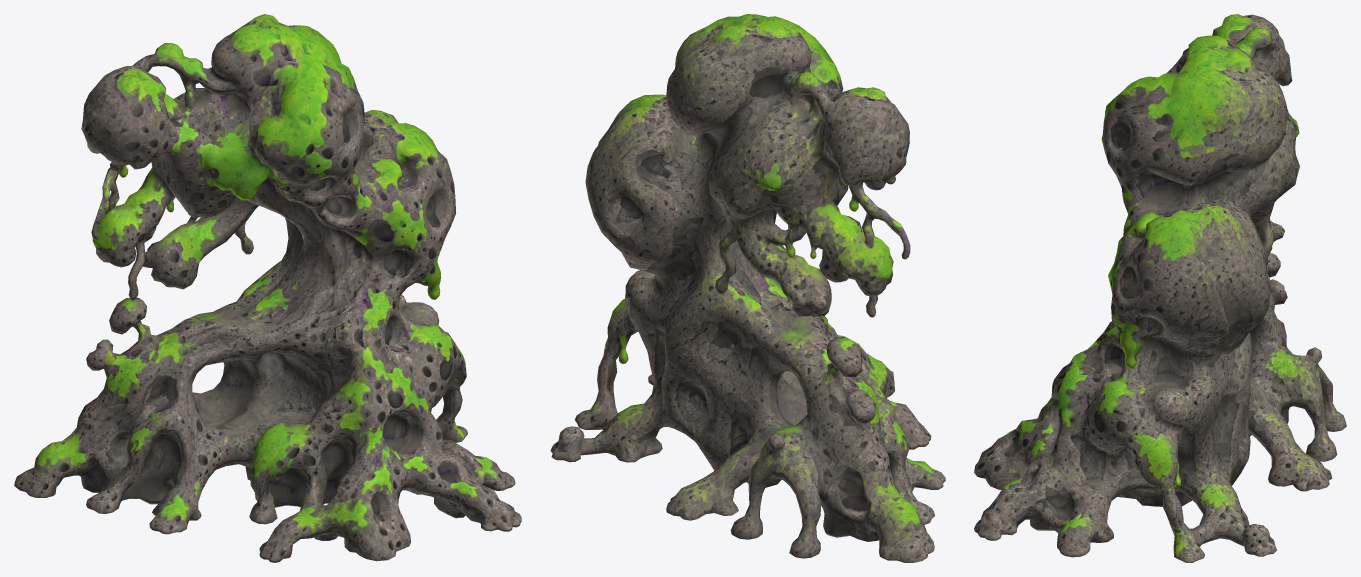
The model's file is mother-puff-arch.glb.
3 renders of one model, left to right at view 1: azimuth 30°, elevation 25°; view 2: azimuth 150°, elevation 25°; view 3: azimuth 270°, elevation 25°, orthographic. The views are drawn at different scales.
Visible parts, largest first — view 1: tripo_node_df203278-9373-4875-b0e2-0f8de474d9c4; view 2: tripo_node_df203278-9373-4875-b0e2-0f8de474d9c4; view 3: tripo_node_df203278-9373-4875-b0e2-0f8de474d9c4.
Boxes of the visible parts, x1=… form: tripo_node_df203278-9373-4875-b0e2-0f8de474d9c4: x1=14, y1=14, x2=521, y2=562; tripo_node_df203278-9373-4875-b0e2-0f8de474d9c4: x1=550, y1=14, x2=945, y2=562; tripo_node_df203278-9373-4875-b0e2-0f8de474d9c4: x1=974, y1=14, x2=1346, y2=562.
Size of the model in its own units: 0.9087 by 0.9995 by 0.771.
Materials: 1 (1 with a texture image).
